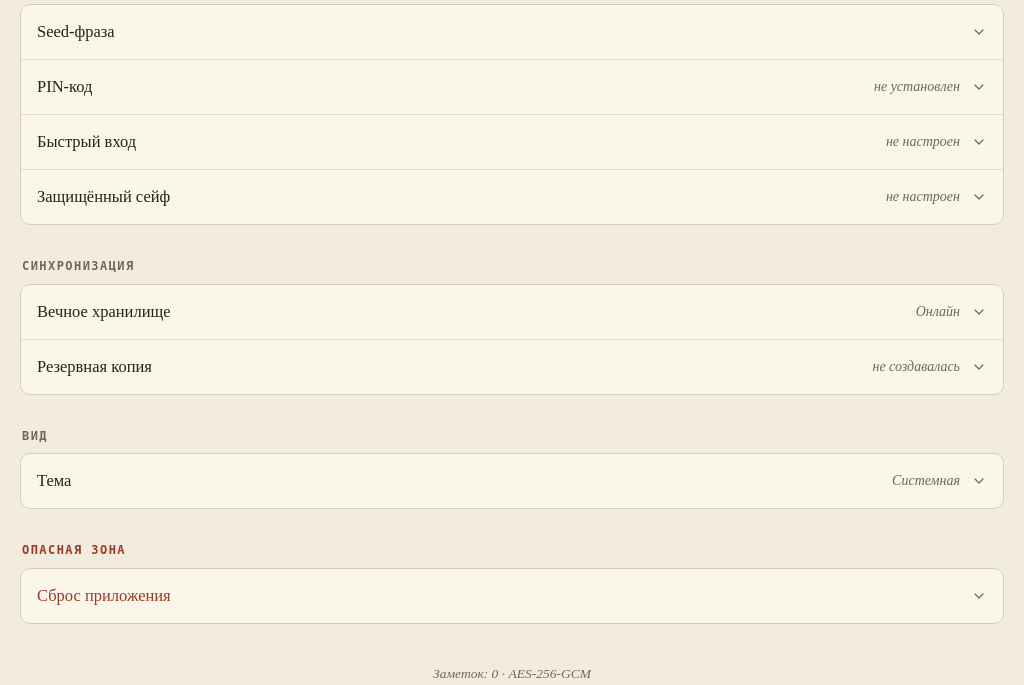
Scenario: SettingsSection — сброс приложения › подтверждение — ЕДИНСТВЕННЫЙ модальный слой: настройки больше не диалог
Click the button "Сброс приложения": (104,595) [21, 569, 1003, 623]
(page scrolled)
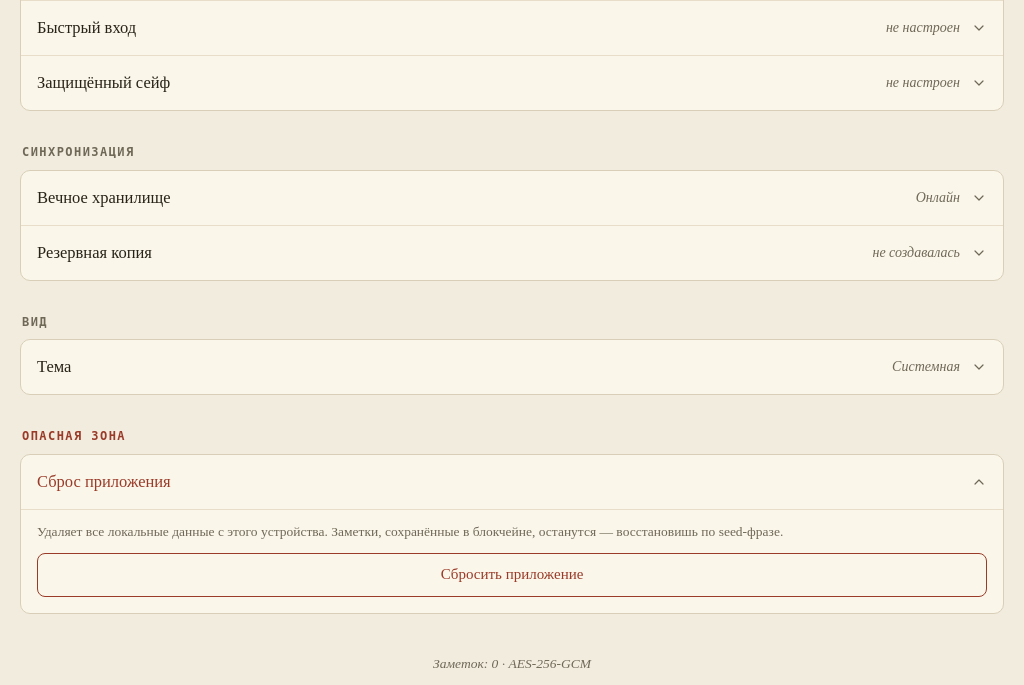
Click the button "Сбросить приложение": (512,575) [37, 553, 987, 597]
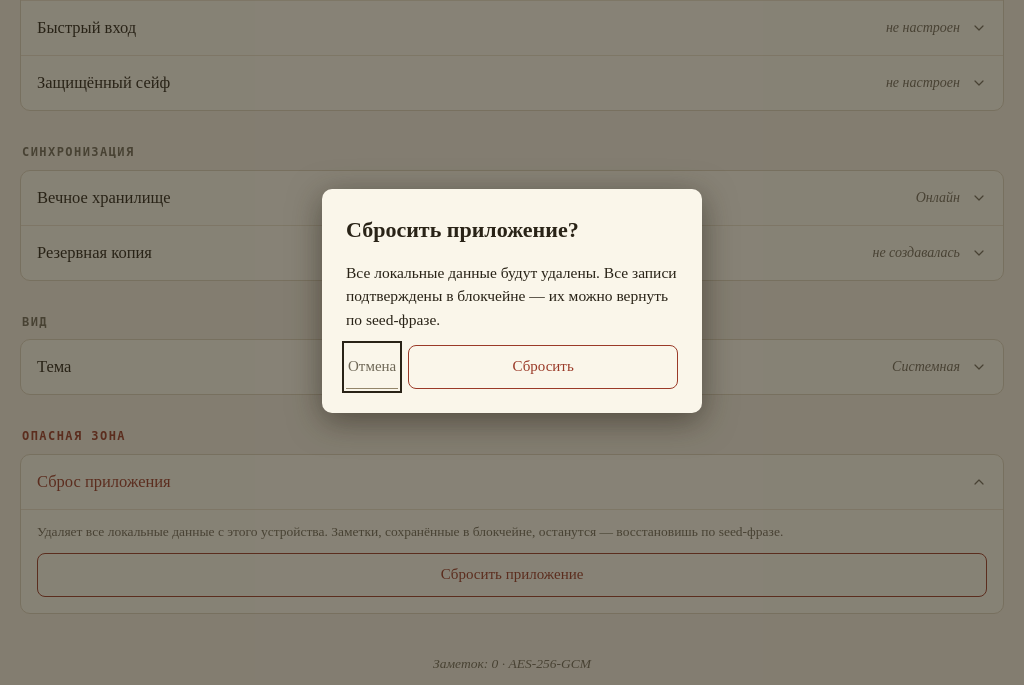
expect the number of dialogs is 1: met, box [322, 189, 702, 413]
